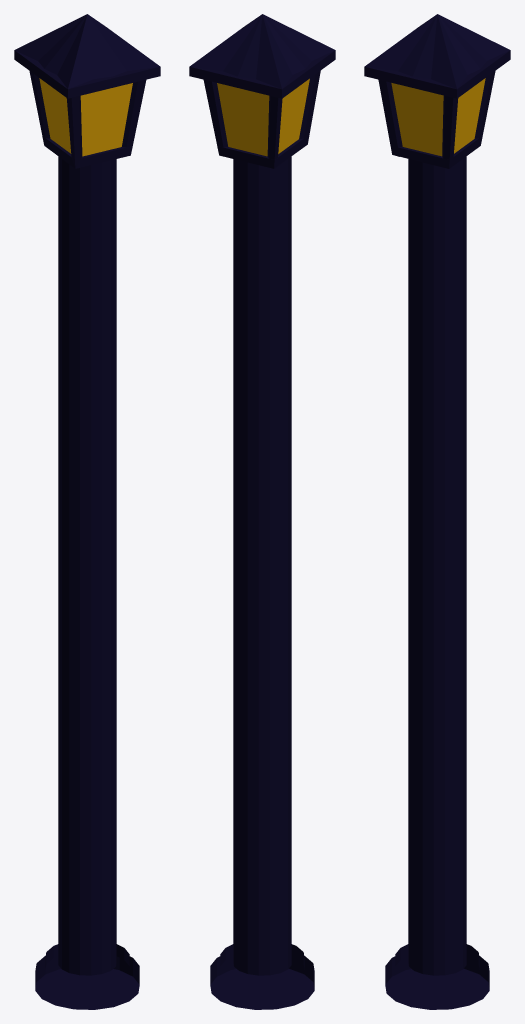
Rendered from lampadaire.fbx.
3 renders of one model, left to right at view 1: azimuth 30°, elevation 25°; view 2: azimuth 150°, elevation 25°; view 3: azimuth 330°, elevation 25°, orthographic.
Parts seen in each view (by area): view 1: Cube; view 2: Cube; view 3: Cube.
Boxes of the visible parts, left/top/right/bottom form: Cube: left=14, top=14, right=160, bottom=1009; Cube: left=189, top=14, right=335, bottom=1009; Cube: left=364, top=14, right=510, bottom=1009.
Bounding box in the file's own units: 122 × 1222 × 122.
